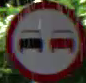No overtake: (7, 0, 83, 82)
